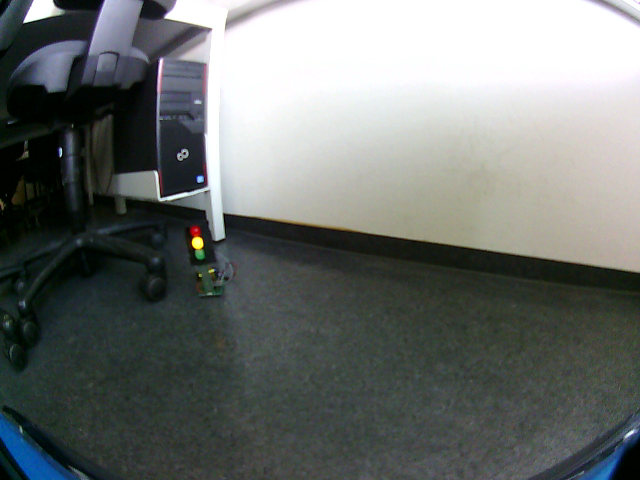yellow trafficlight: (186, 223, 211, 264)
